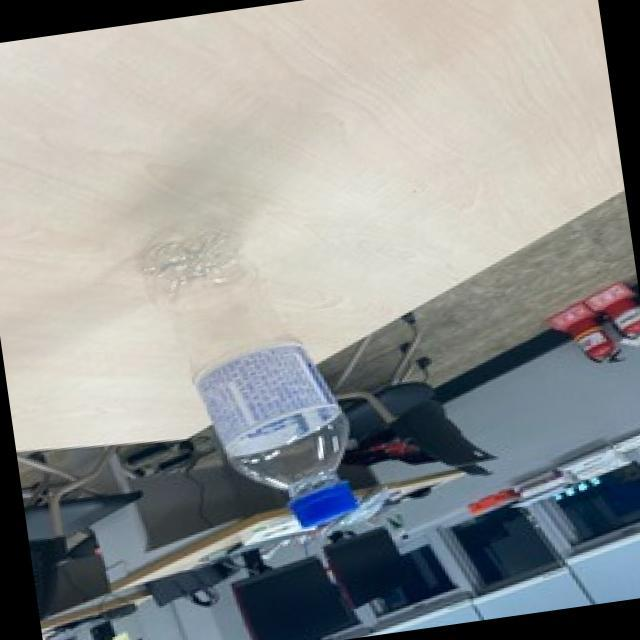good: (130, 197, 367, 554)
